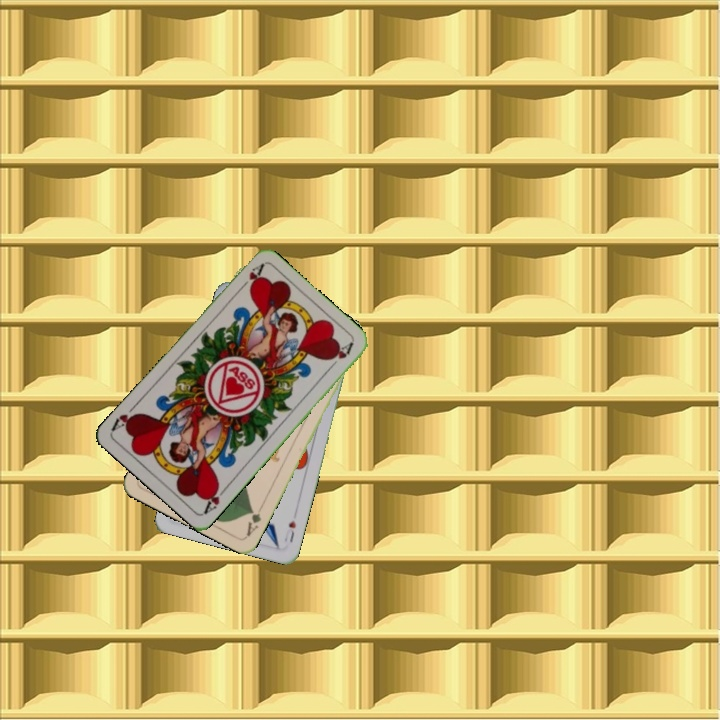GA: (242, 501, 265, 539)
HA: (234, 260, 266, 294), (200, 480, 230, 516)
HU: (280, 516, 298, 546)
